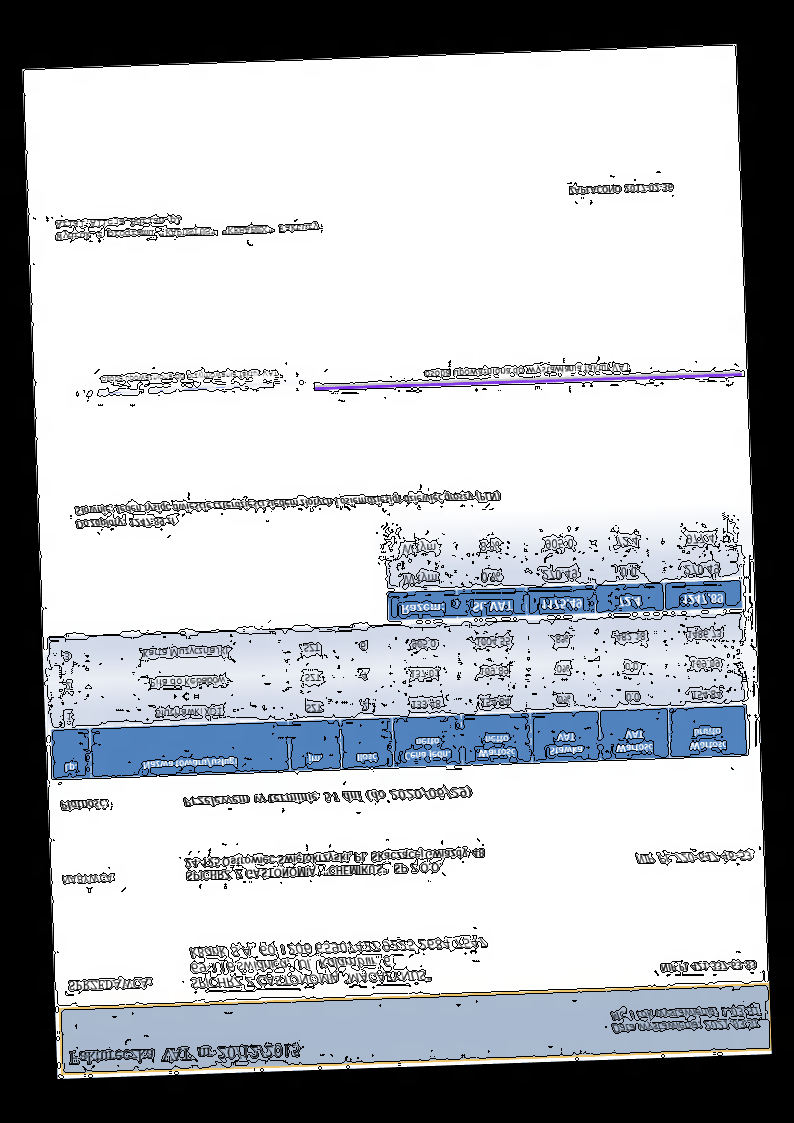Table: (46, 614, 748, 781), (384, 516, 744, 622)
TextBox: (73, 487, 502, 533), (185, 932, 491, 993), (181, 843, 487, 885), (52, 210, 322, 243), (182, 785, 473, 810), (67, 1041, 302, 1069), (609, 1002, 762, 1037), (422, 359, 633, 381), (100, 368, 280, 387), (633, 848, 753, 867), (658, 957, 759, 977), (566, 181, 674, 199), (65, 974, 154, 994), (58, 797, 109, 814), (60, 872, 117, 887)
